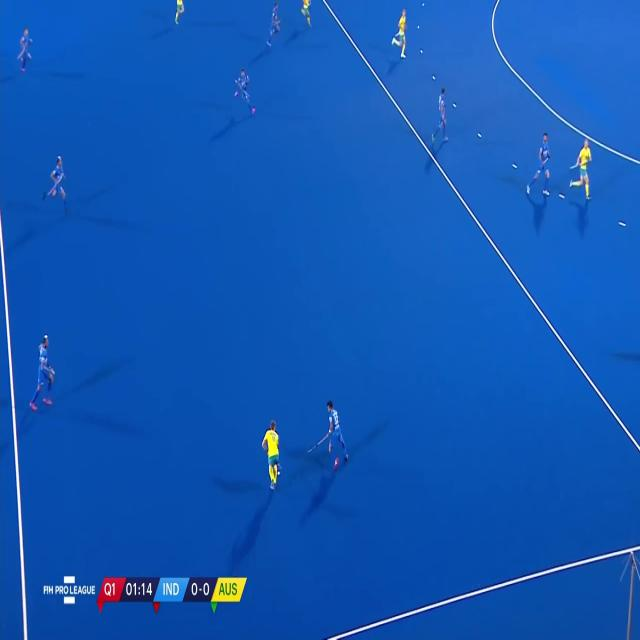ball: (276, 468, 282, 479)
